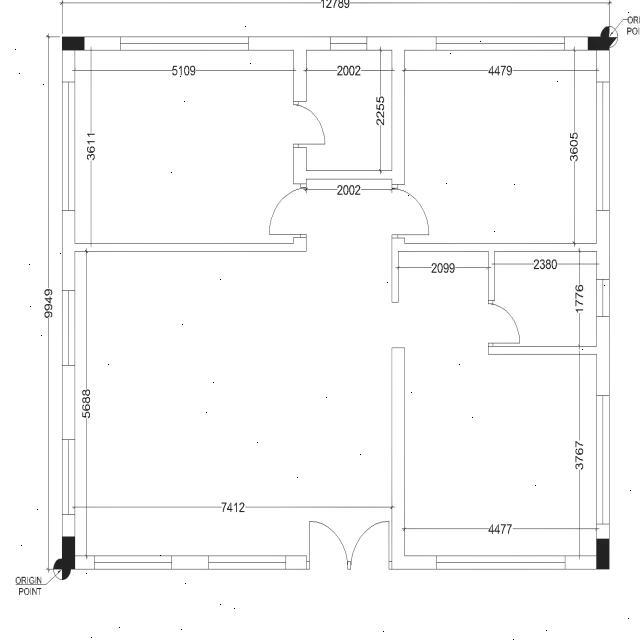Column: (596, 538, 610, 570), (62, 536, 75, 570), (588, 36, 610, 50), (62, 36, 84, 50)
Door: (268, 184, 306, 238), (392, 184, 429, 238), (294, 101, 326, 148), (488, 300, 520, 346)
Double-Door: (306, 521, 392, 569)
Window: (436, 556, 566, 570), (436, 36, 565, 50), (596, 81, 610, 210), (596, 396, 610, 524), (120, 36, 248, 50), (62, 81, 75, 210), (208, 556, 286, 570), (94, 556, 172, 570), (62, 439, 75, 515), (62, 290, 75, 366), (596, 279, 610, 317), (330, 36, 367, 50)
